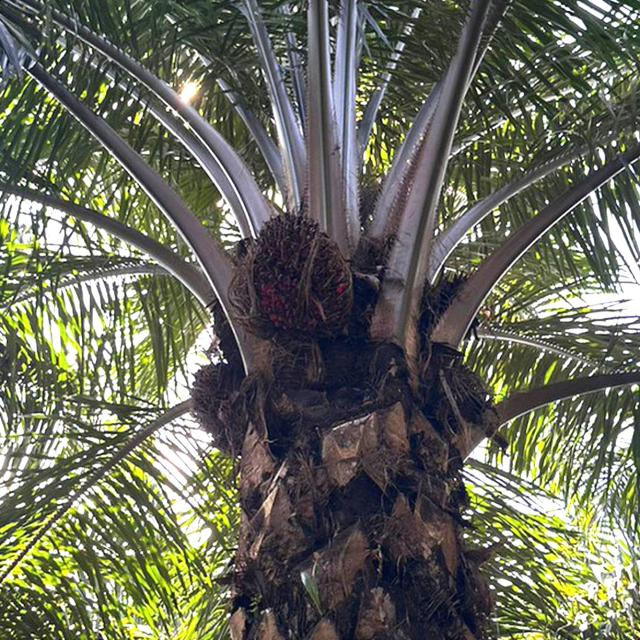ripe: (243, 207, 357, 328)
